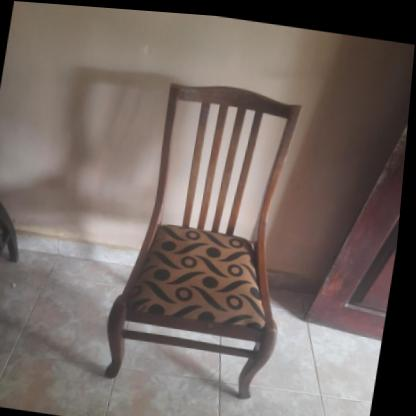Ceramic floor: (0, 234, 388, 416)
Chair: (105, 71, 318, 399)
